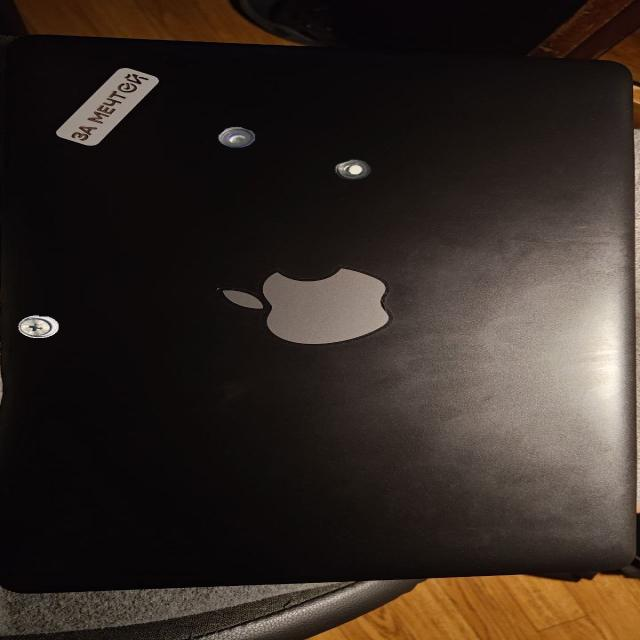lock: (18, 315, 59, 338)
missing_screw: (218, 126, 255, 148), (334, 159, 370, 179)
